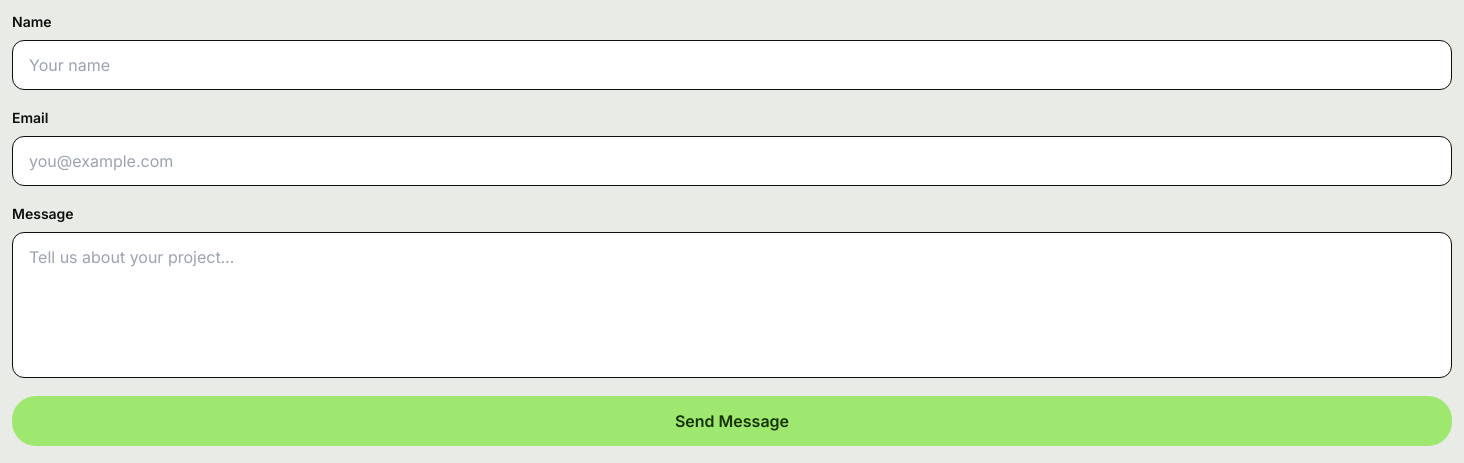
ContactForm › shows success message on successful submission
In the field labelled "Name": (732, 65) [12,40,1452,90], type "Alice"
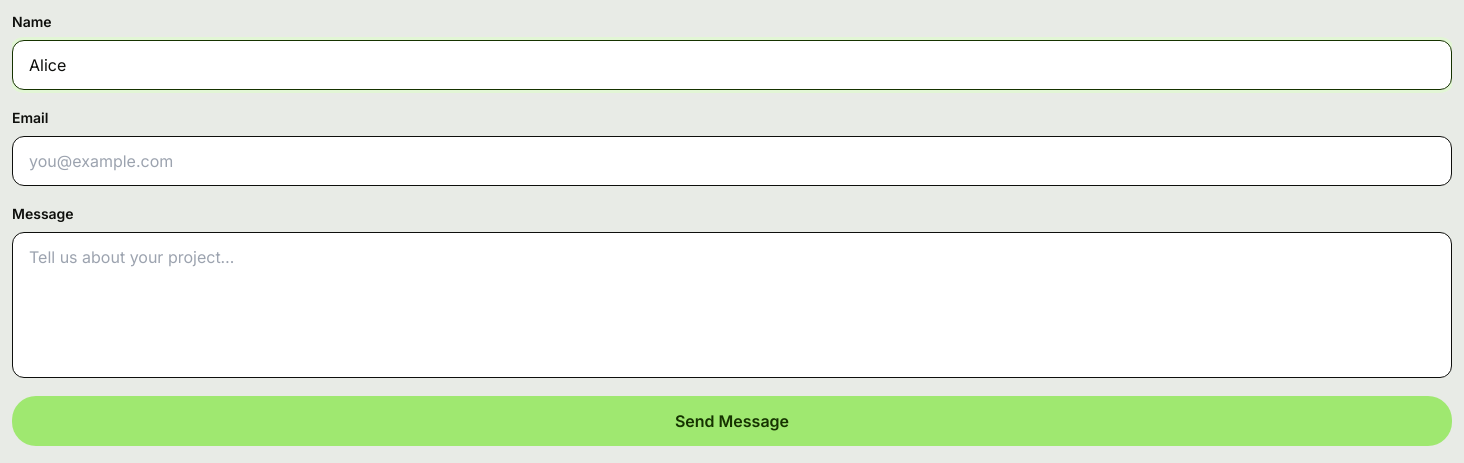
In the field labelled "Email": (732, 161) [12,136,1452,186], type "alice@example.com"
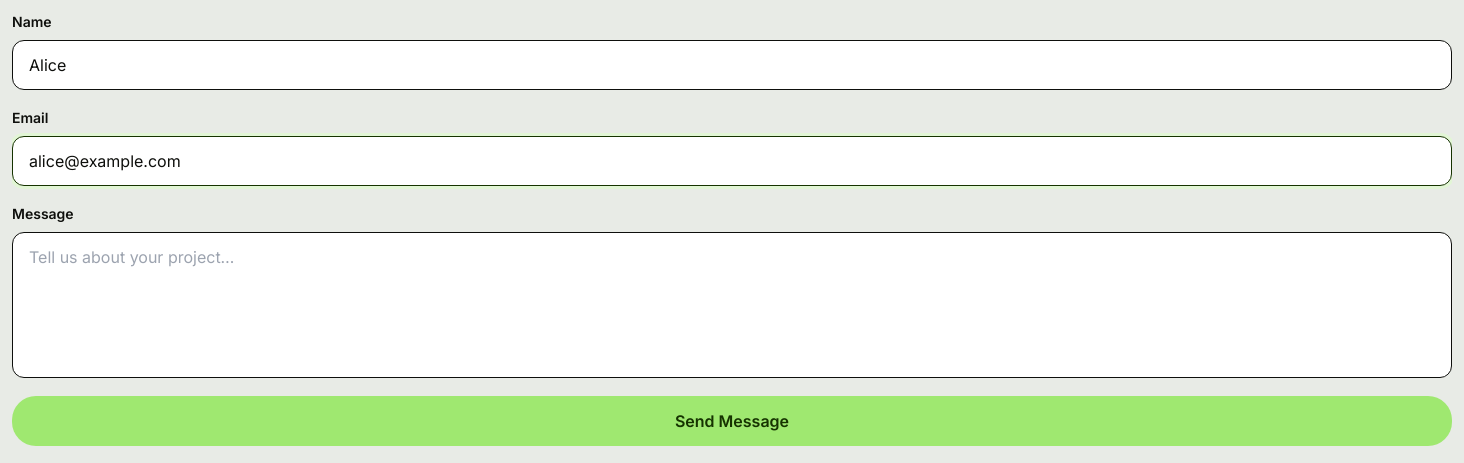
In the text box labelled "Message": (732, 305) [12,232,1452,378], type "Hello!"
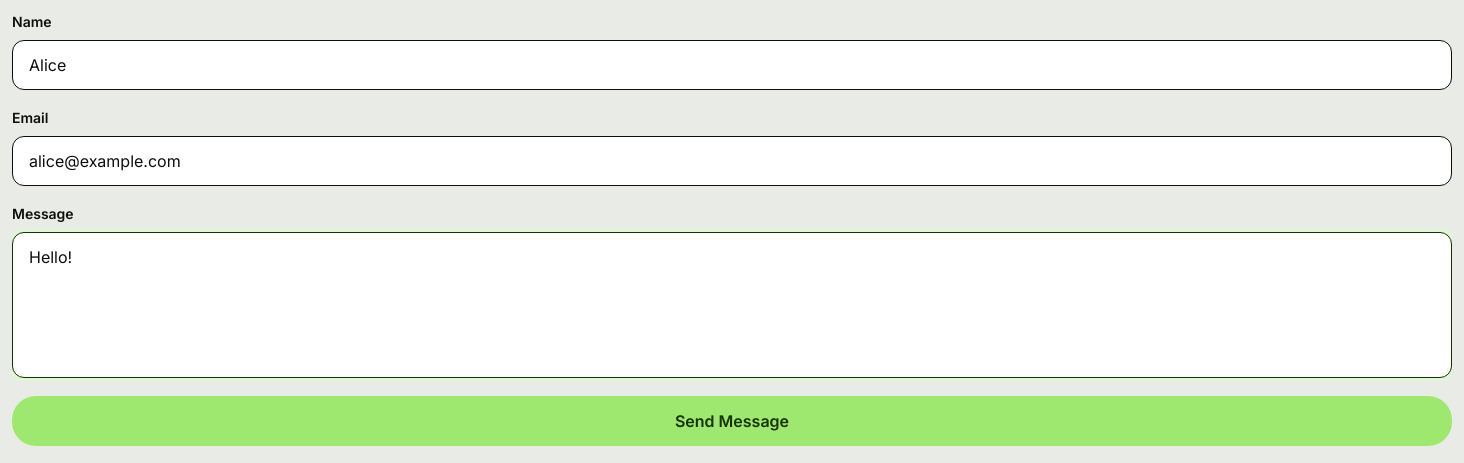
Click the button "Send Message": (732, 421) [12,396,1452,446]
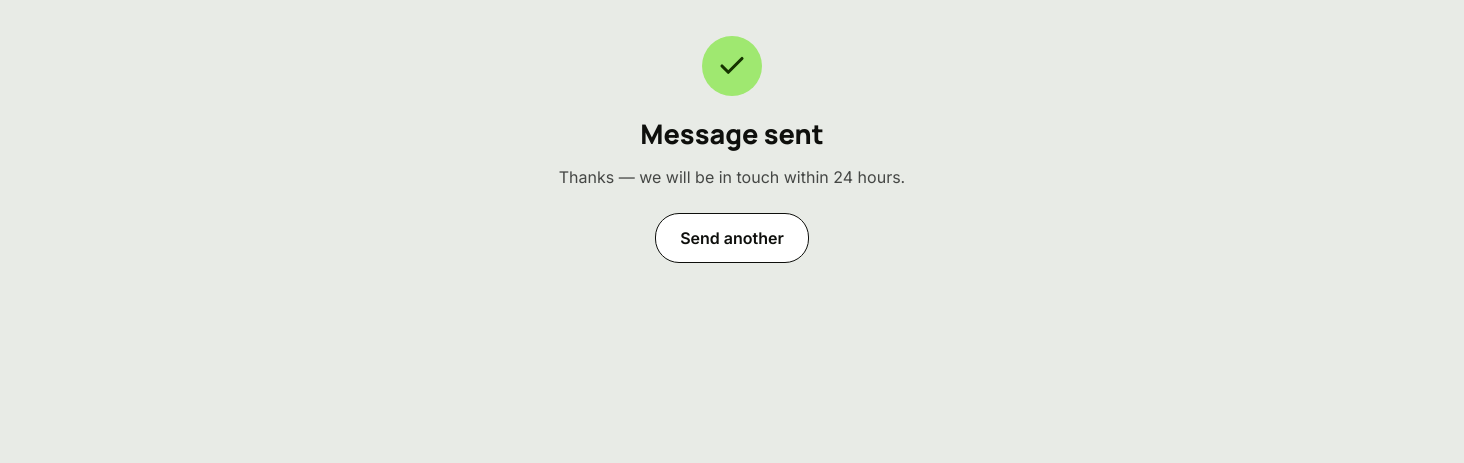
Expected: the heading "Message sent" is shown, [640,115,824,152]
